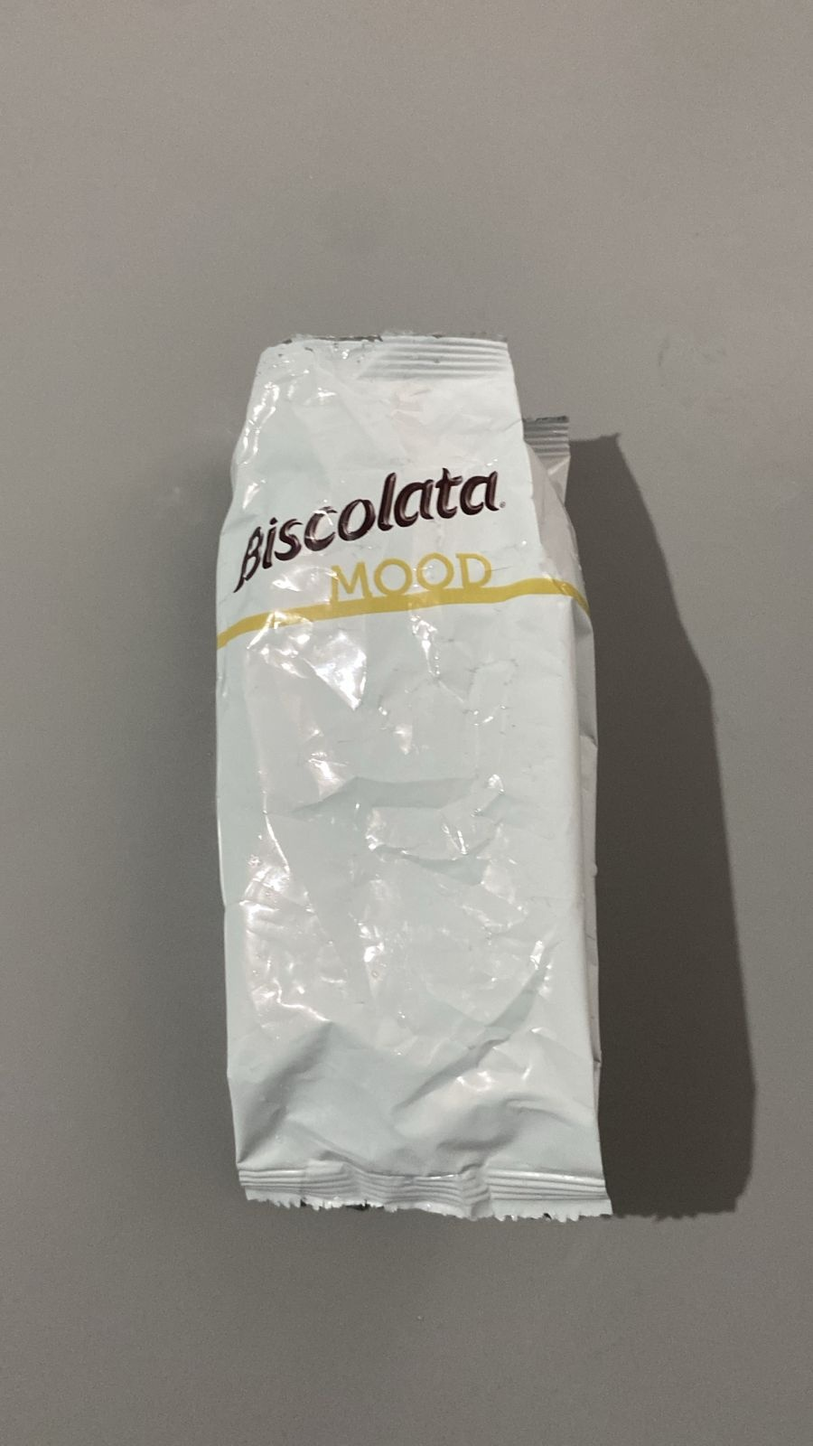Ordinario: (212, 335, 615, 1222)
